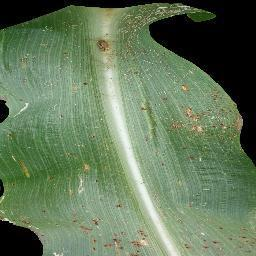Corn_Common_Rust: (118, 67, 256, 166), (75, 4, 231, 60), (68, 202, 178, 256), (0, 98, 47, 203), (0, 203, 68, 256), (178, 215, 256, 256), (14, 43, 74, 92), (55, 153, 99, 198), (79, 74, 110, 103), (84, 131, 107, 140), (56, 109, 65, 122)
